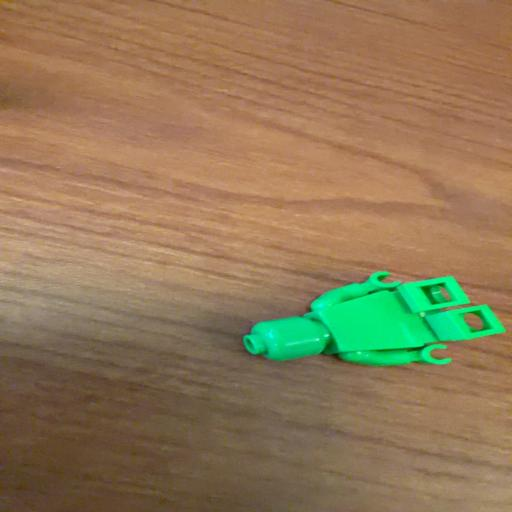UnoQ-minifig-detector: (244, 271, 505, 366)
